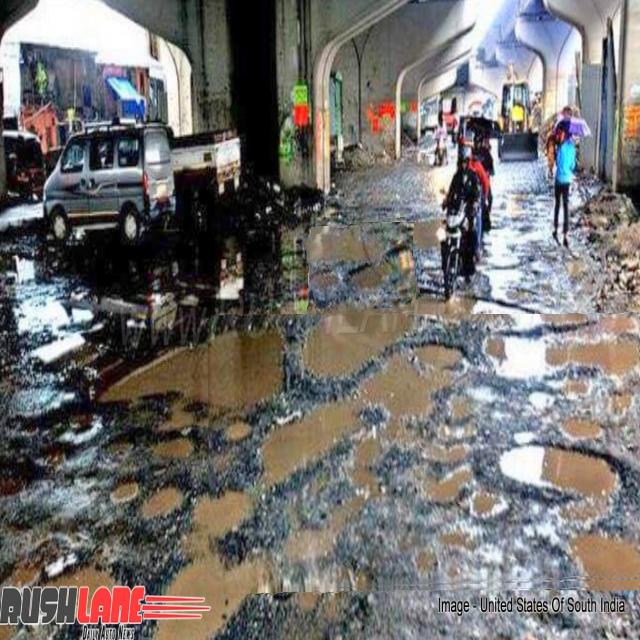Pothole: (208, 314, 640, 592), (307, 222, 418, 318)
